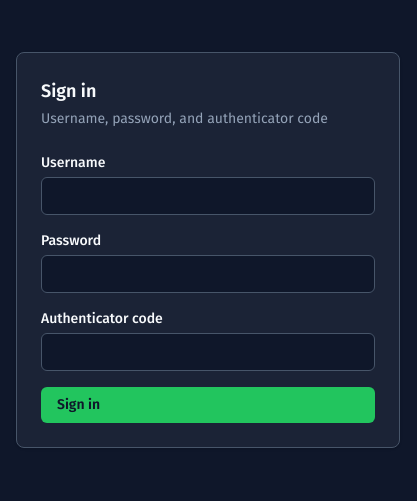
it: LoginPage › shows validation errors for empty fields and short code
Expected: the heading "Sign in" is shown, [41,80,96,102]
Click the button "Sign in" at point(79, 404), box [41,387,375,423]
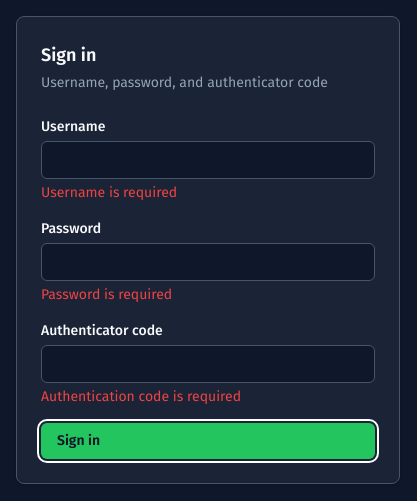
Result: the text "Username is required" is shown at [41,184,177,201]
Result: the text "Password is required" is shown at [41,286,172,303]
Result: the text "Authentication code is required" is shown at [41,388,241,405]
Type "admin" into the field labelled "Username" at point(208, 160), box [41,141,375,179]
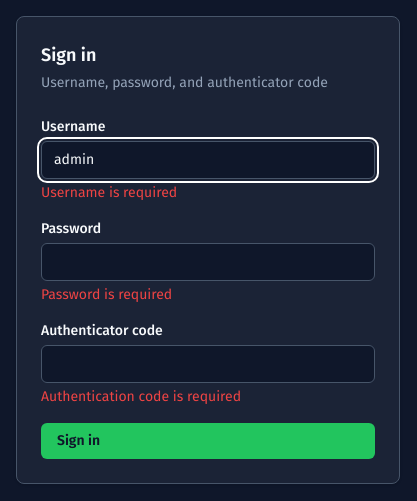
Type "secret" into the password field labelled "Password" at point(208, 262), box [41,243,375,281]
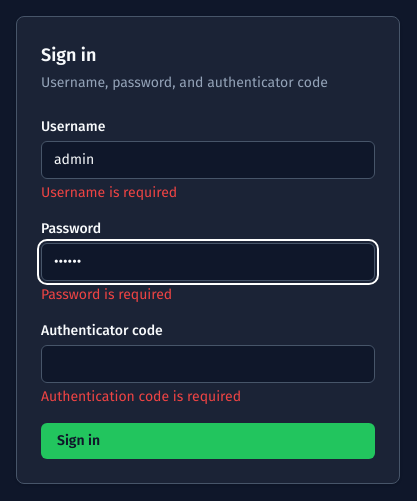
Type "12345" into the field labelled "Authenticator code" at point(208, 364), box [41,345,375,383]
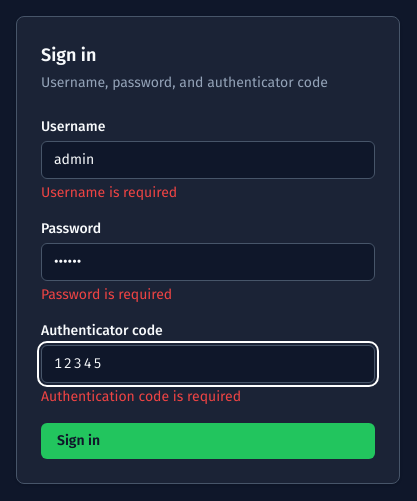
Click the button "Sign in" at point(79, 440), box [41,423,375,459]
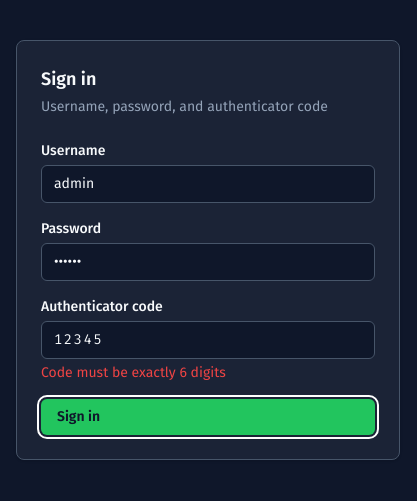
Result: the text "Code must be exactly 6 digits" is shown at [41,364,226,381]
